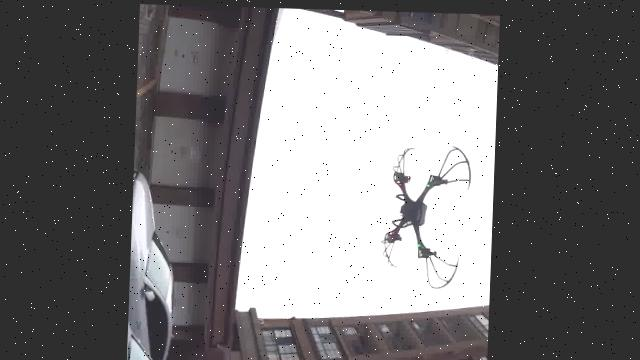drone: (374, 131, 474, 299)
